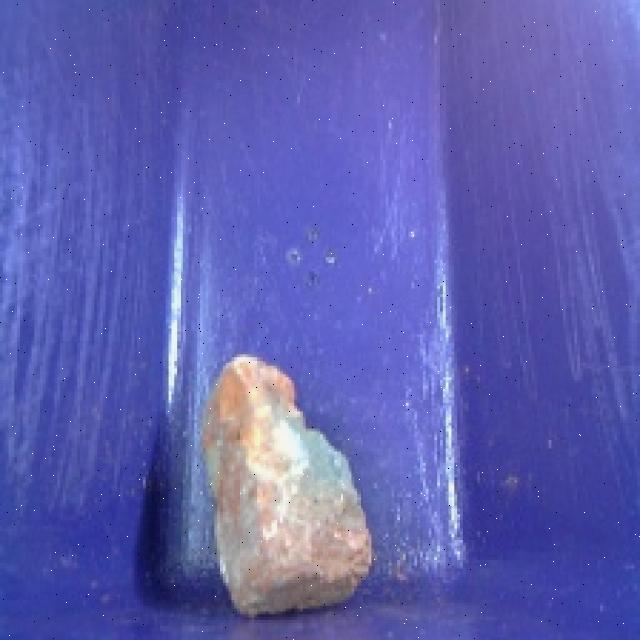brick: (194, 339, 382, 625)
